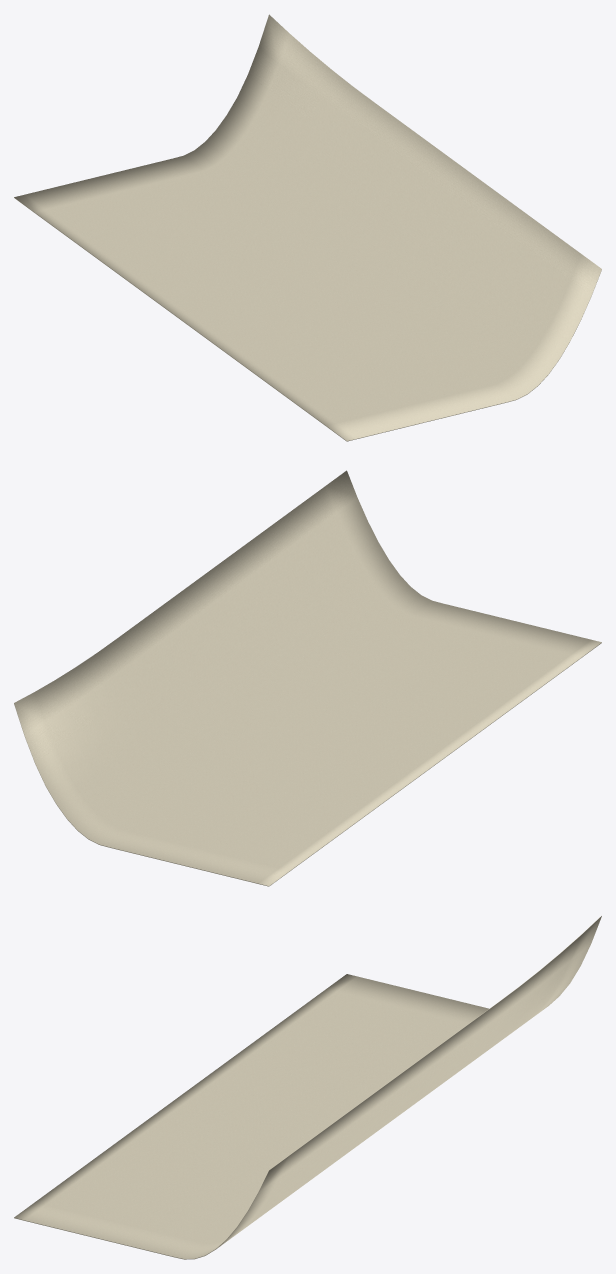
File: receipt_paper.glb
The picture shows the model from 3 angles, top to bottom: view 1: azimuth 30°, elevation 25°; view 2: azimuth 150°, elevation 25°; view 3: azimuth 330°, elevation 25°; orthographic projection.
Parts seen in each view (by area): view 1: receipt_paper__PaperSurface; view 2: receipt_paper__PaperSurface; view 3: receipt_paper__PaperSurface.
Part boxes in pixels (<box>): receipt_paper__PaperSurface: <box>14,14,601,441</box>; receipt_paper__PaperSurface: <box>14,470,601,886</box>; receipt_paper__PaperSurface: <box>14,916,601,1259</box>.
Bounding box in the file's own units: 0.146 × 0.0664 × 0.33.
2 materials, 2 textured.
